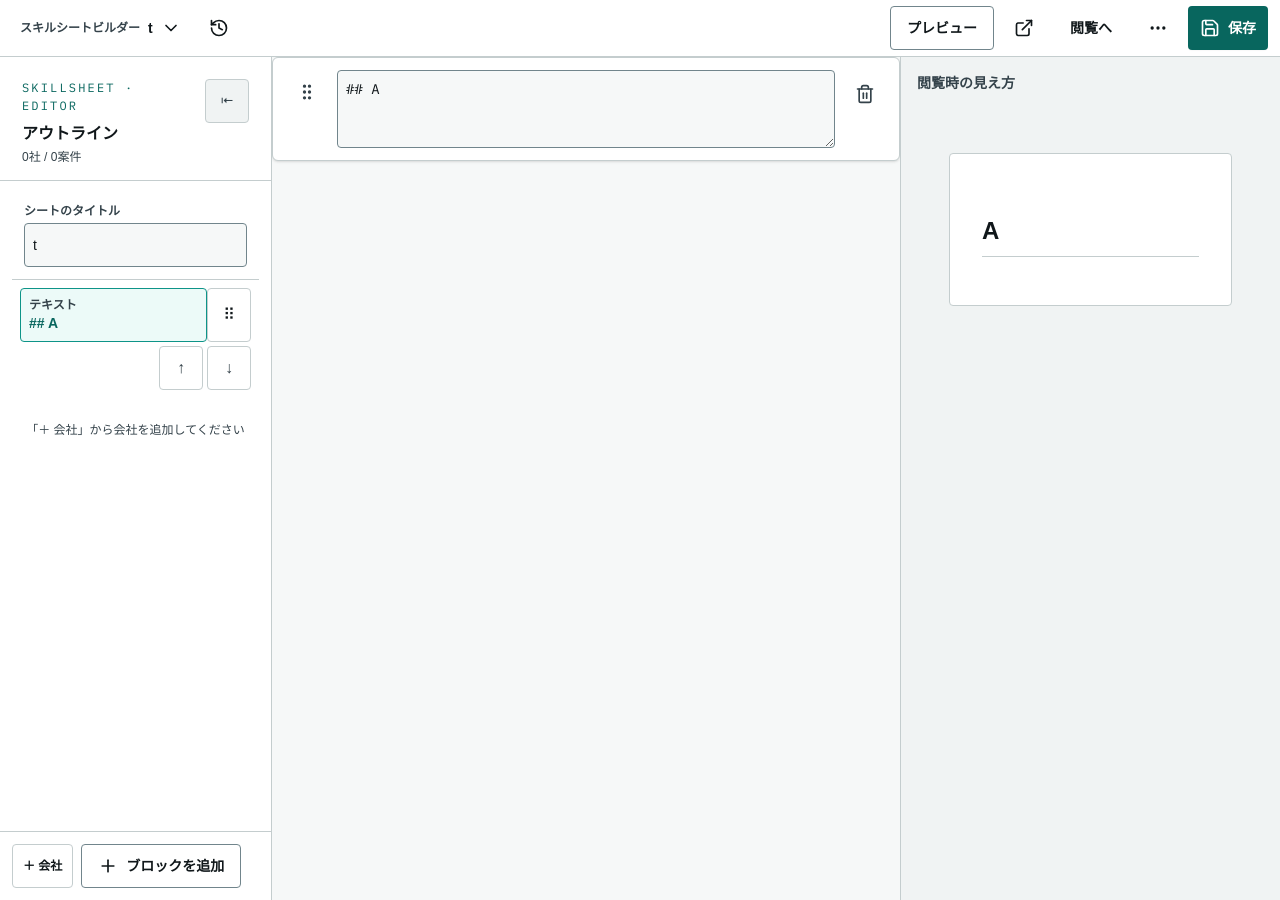
it: BuilderClient › 未保存の変更があっても確認ダイアログを承諾すれば「新規シート」の作成ダイアログが開く
Type "!" into the text box with placeholder "Markdown を入力..." at {"x": 586, "y": 109}, box [337,70,835,148]
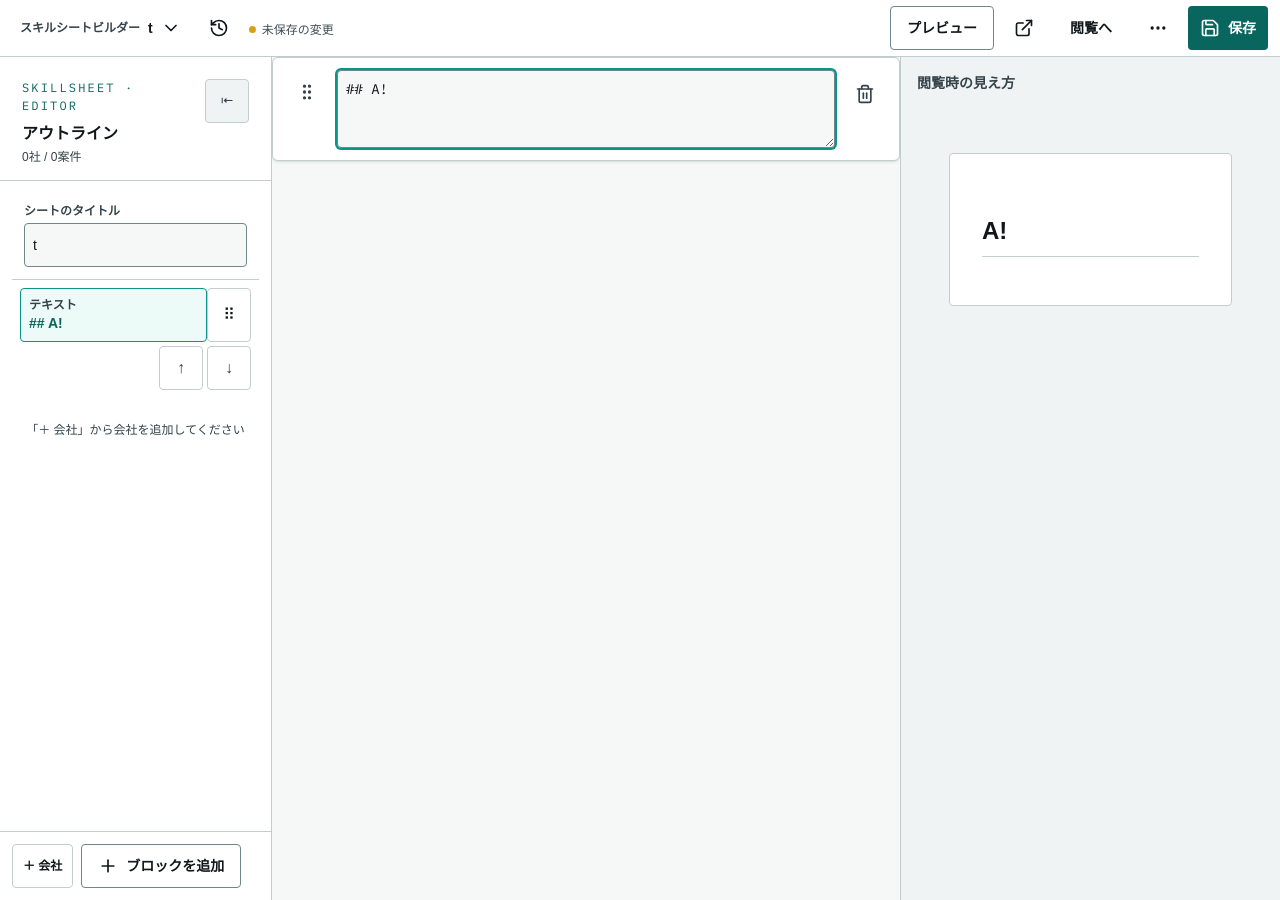
Click the button with aria-label "シートを切り替える:" at {"x": 100, "y": 28}, box [12,6,189,50]
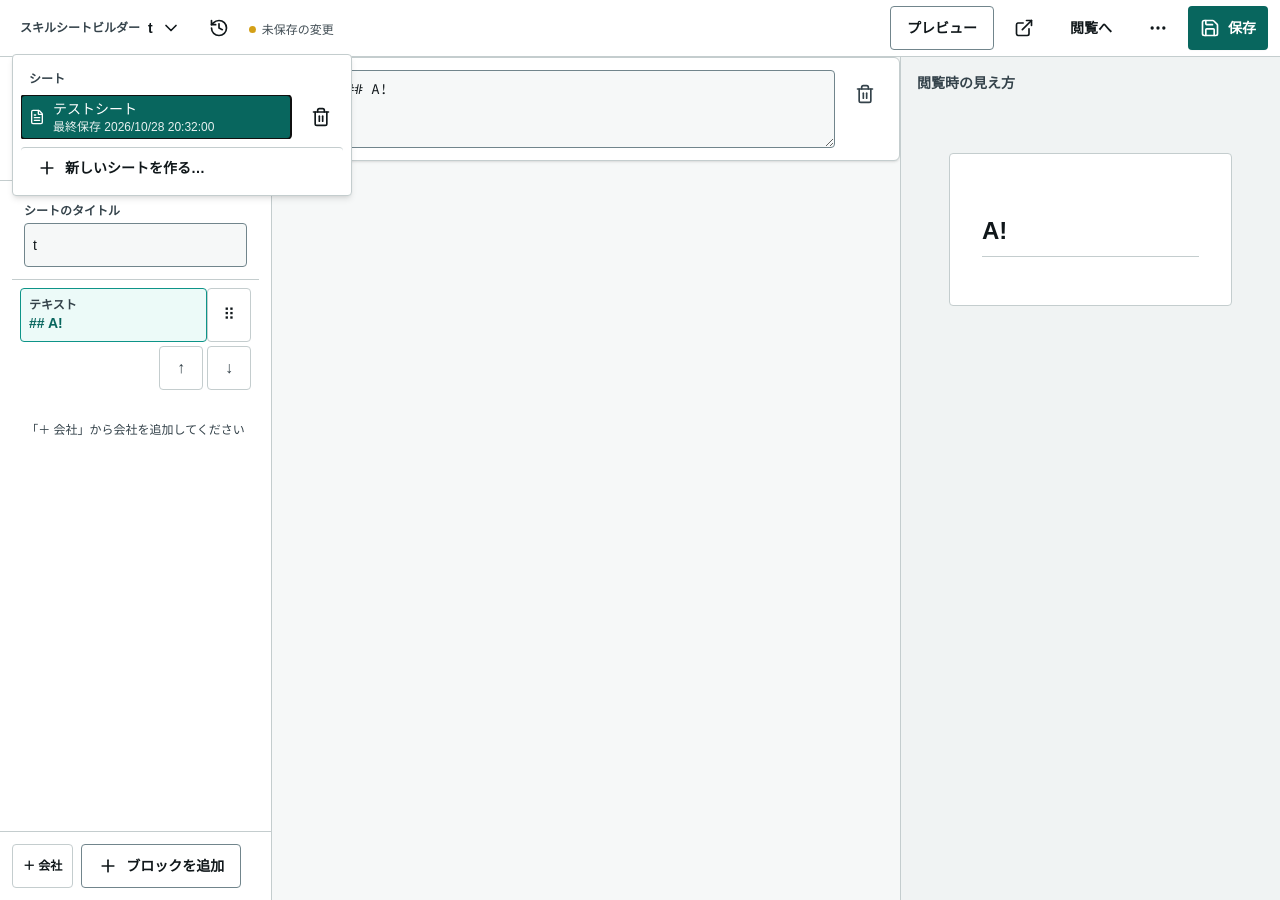
Click the button "新しいシートを作る…" at {"x": 182, "y": 167}, box [21,147,343,187]
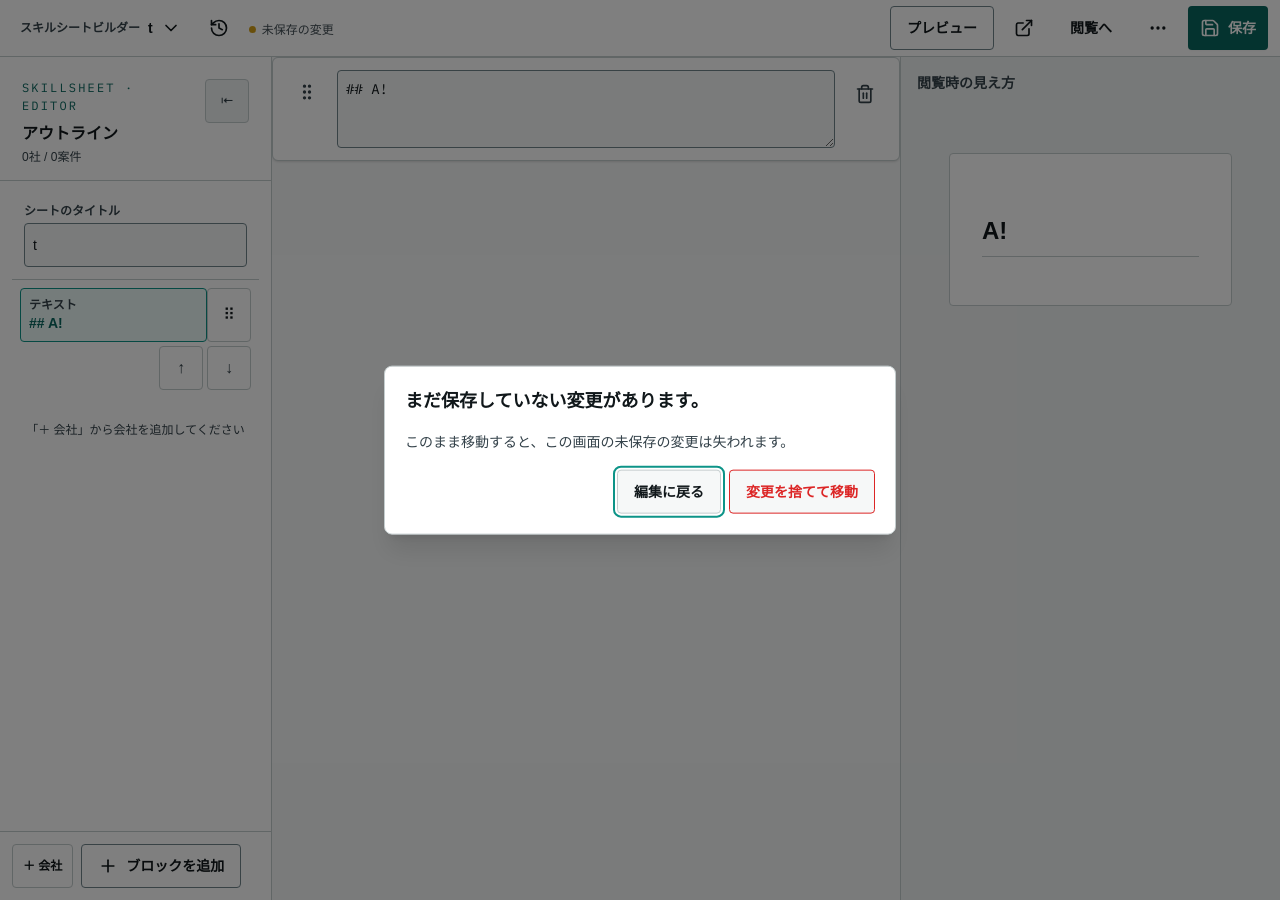
Click the button "変更を捨てて移動" at {"x": 802, "y": 491}, box [729,469,875,513]
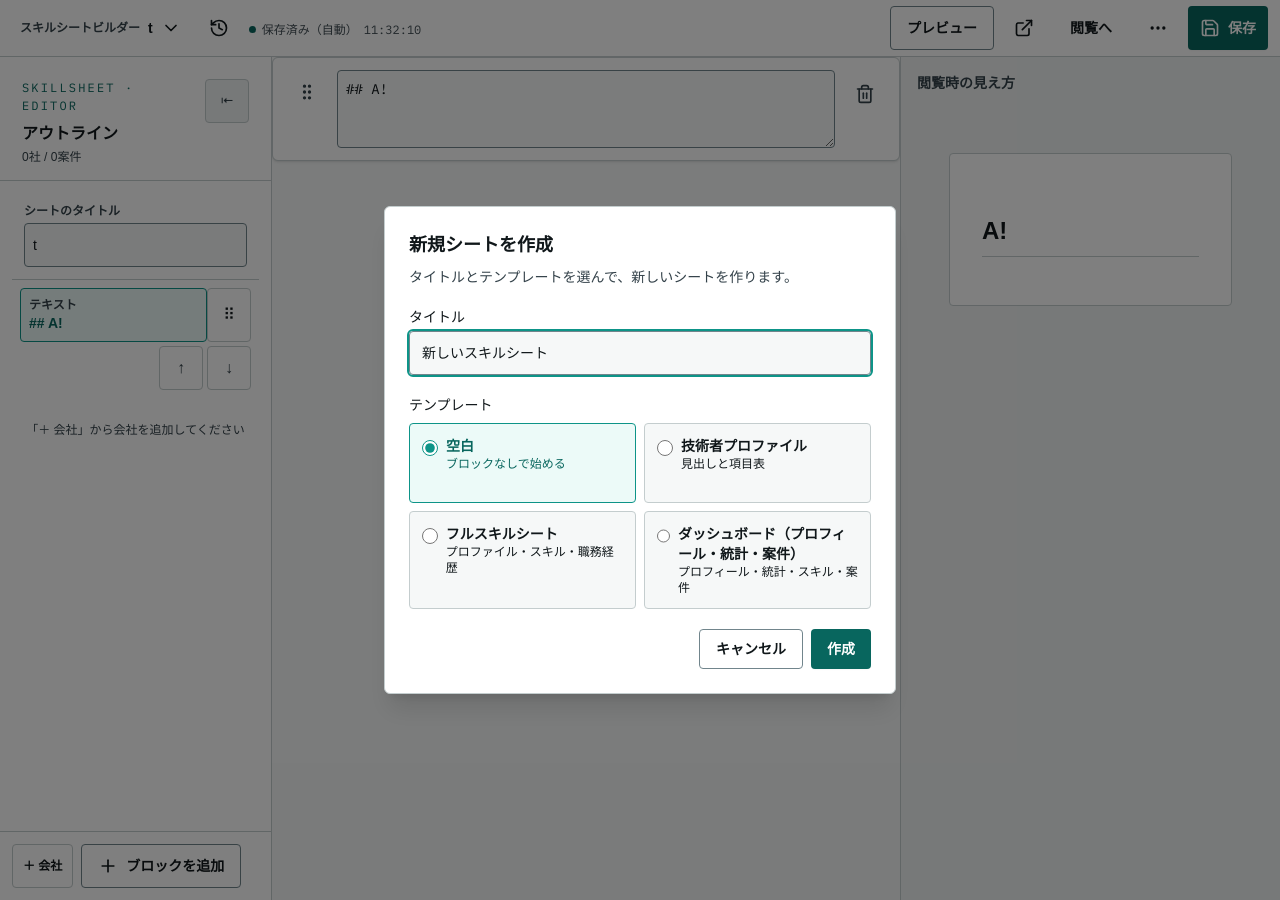
Check: the heading "新規シートを作成" is shown, box [409,235,553,255]
